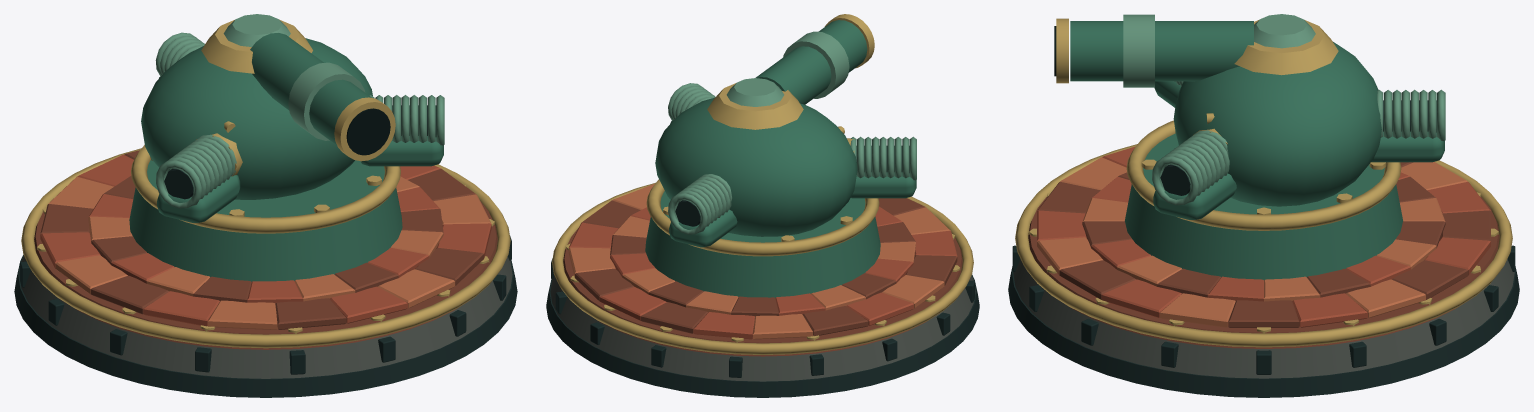
Rendered from warrior-6.glb.
The picture shows the model from 3 angles, left to right: view 1: azimuth 30°, elevation 25°; view 2: azimuth 150°, elevation 25°; view 3: azimuth 270°, elevation 25°; orthographic projection. The views are drawn at different scales.
Parts seen in each view (by area): view 1: warrior-6, turret-yaw, barrels-recoil; view 2: warrior-6, turret-yaw, barrels-recoil; view 3: warrior-6, turret-yaw, barrels-recoil.
Part boxes in pixels (x1,y1,x2,y2): warrior-6: (14, 145, 517, 397); turret-yaw: (141, 14, 444, 222); barrels-recoil: (250, 33, 395, 161); warrior-6: (546, 179, 979, 397); turret-yaw: (655, 78, 916, 247); barrels-recoil: (755, 14, 874, 104); warrior-6: (1008, 120, 1519, 397); turret-yaw: (1152, 14, 1445, 219); barrels-recoil: (1054, 14, 1253, 87).
Bounding box in the file's own units: 1.78 × 1.04 × 1.78.
